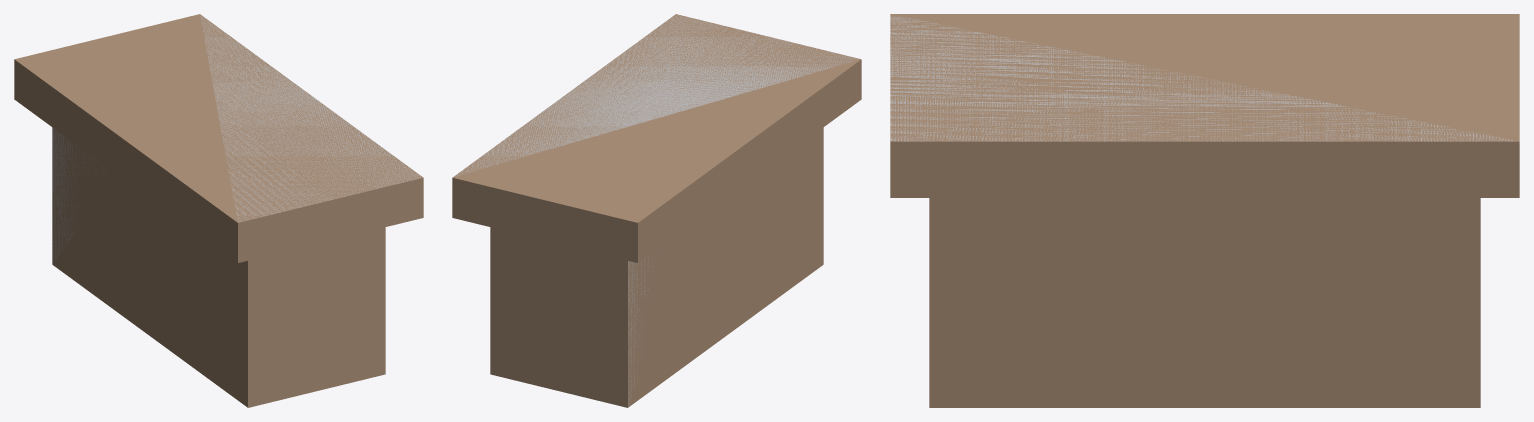
Rendered from Counter.fbx.
3 renders of one model, left to right at view 1: azimuth 30°, elevation 25°; view 2: azimuth 150°, elevation 25°; view 3: azimuth 270°, elevation 25°, orthographic. The views are drawn at different scales.
Parts seen in each view (by area): view 1: Object Counter 2026-08-02_12-35-25; view 2: Object Counter 2026-08-02_12-35-25; view 3: Object Counter 2026-08-02_12-35-25.
Boxes of the visible parts, box(x1,y1,x2,y2) form: Object Counter 2026-08-02_12-35-25: box(14, 14, 423, 407); Object Counter 2026-08-02_12-35-25: box(452, 14, 861, 407); Object Counter 2026-08-02_12-35-25: box(890, 14, 1519, 407).
Size of the model in its own units: 11600 by 12000 by 24200.
